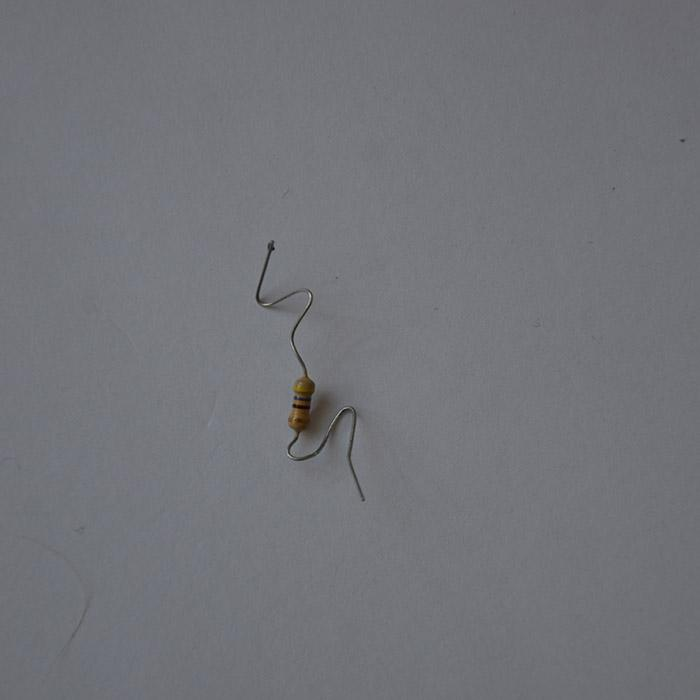resistor: (288, 374, 315, 432)
